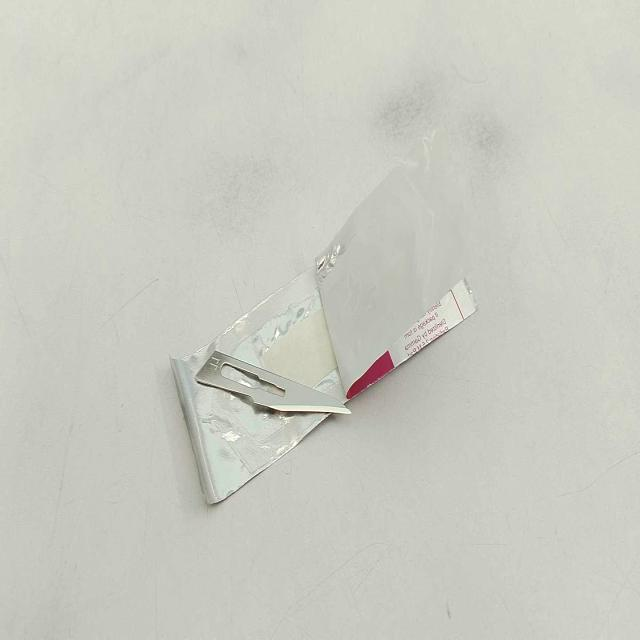General: (168, 128, 481, 507), (169, 269, 353, 506)
Sharps: (196, 350, 353, 415)
